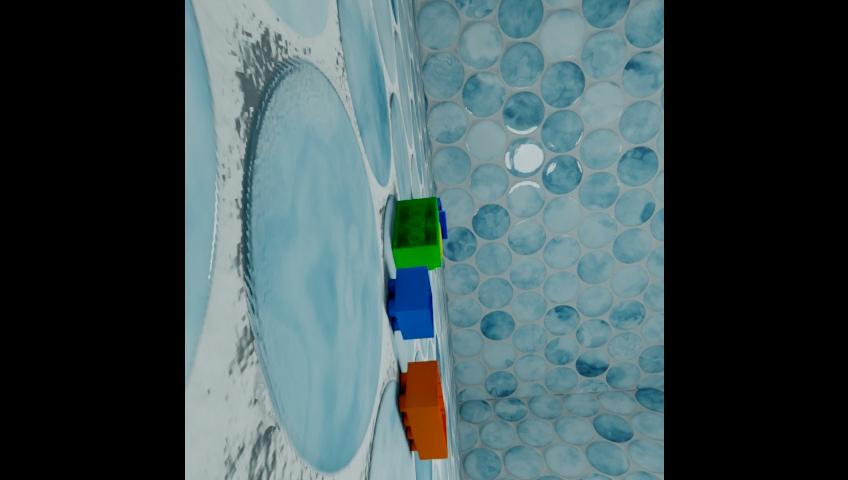2x2_blue: (388, 265, 434, 339), (437, 210, 448, 239), (436, 197, 442, 210)
4x2_green: (392, 196, 441, 269)
4x2_orange: (399, 360, 448, 459)
